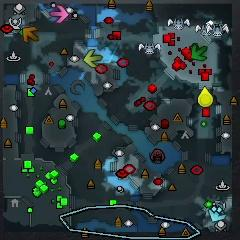p4: (198, 87, 213, 107)
x1: (50, 5, 69, 23)
x2: (84, 50, 103, 68)
x3: (209, 205, 226, 224)
x4: (192, 45, 207, 61)
x5: (22, 27, 40, 42)
